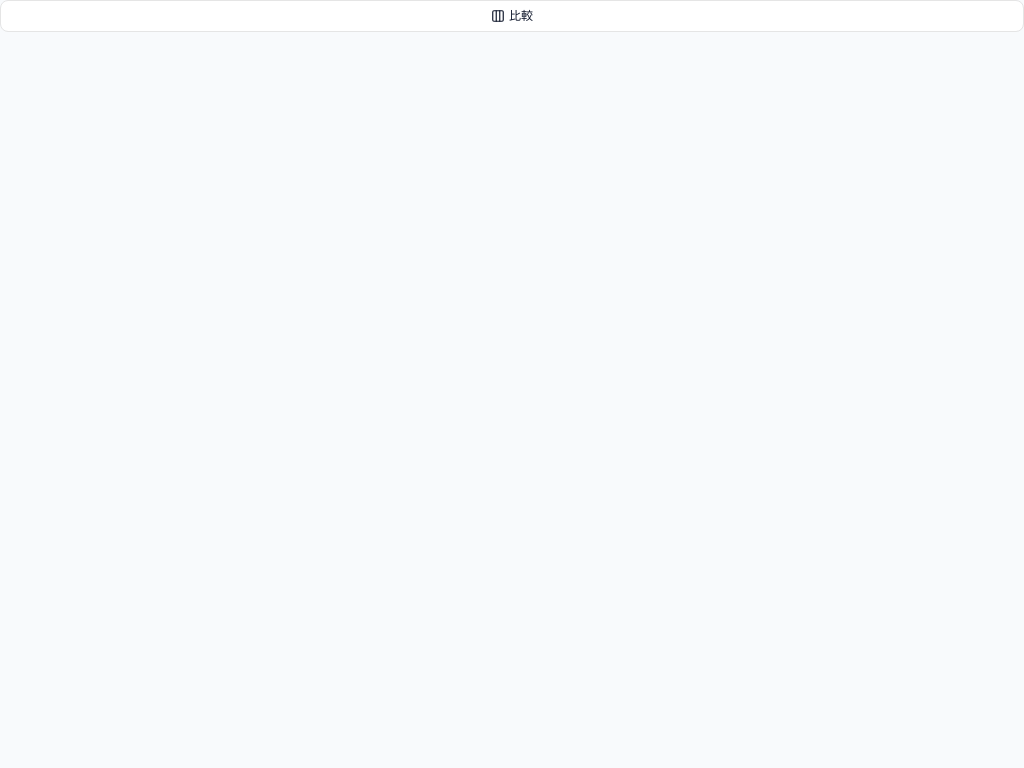
Test: BuildComparisonDialog › 取得したパーツと構成ごとの値を比較表に反映する
The image size is (1024, 768).
Click the button "比較" at (512, 16), box [0,0,1023,32]
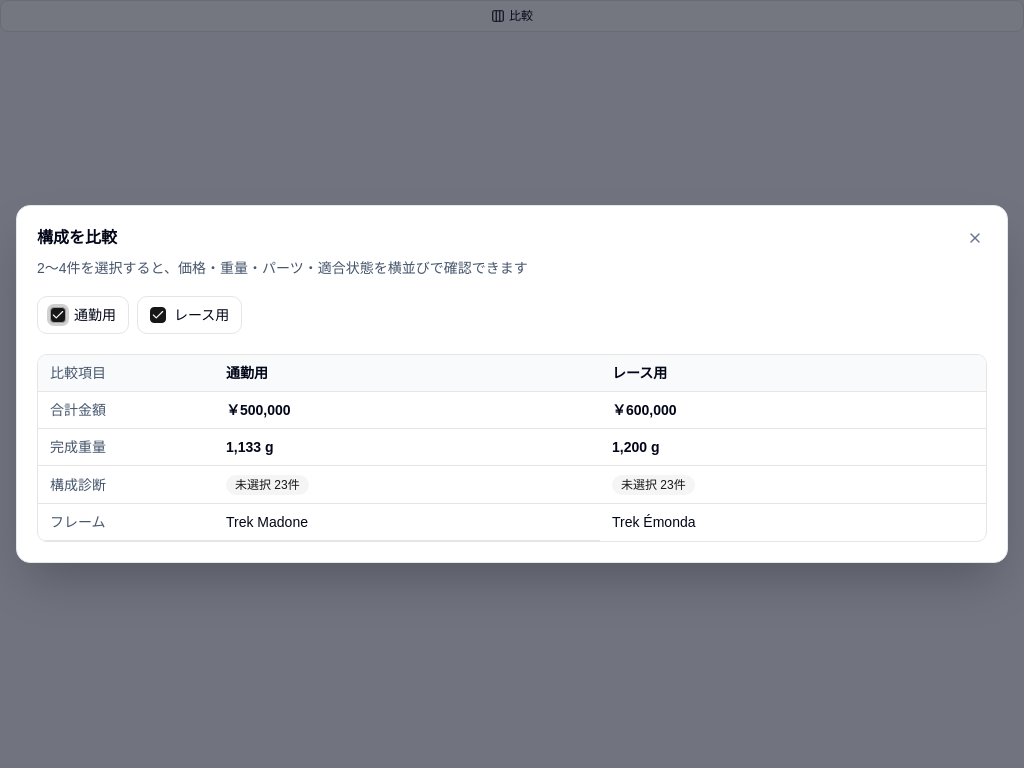
Result: the text "Trek Madone" is shown at [214,504,600,540]
Result: the text "Trek Émonda" is shown at [600,504,986,540]
